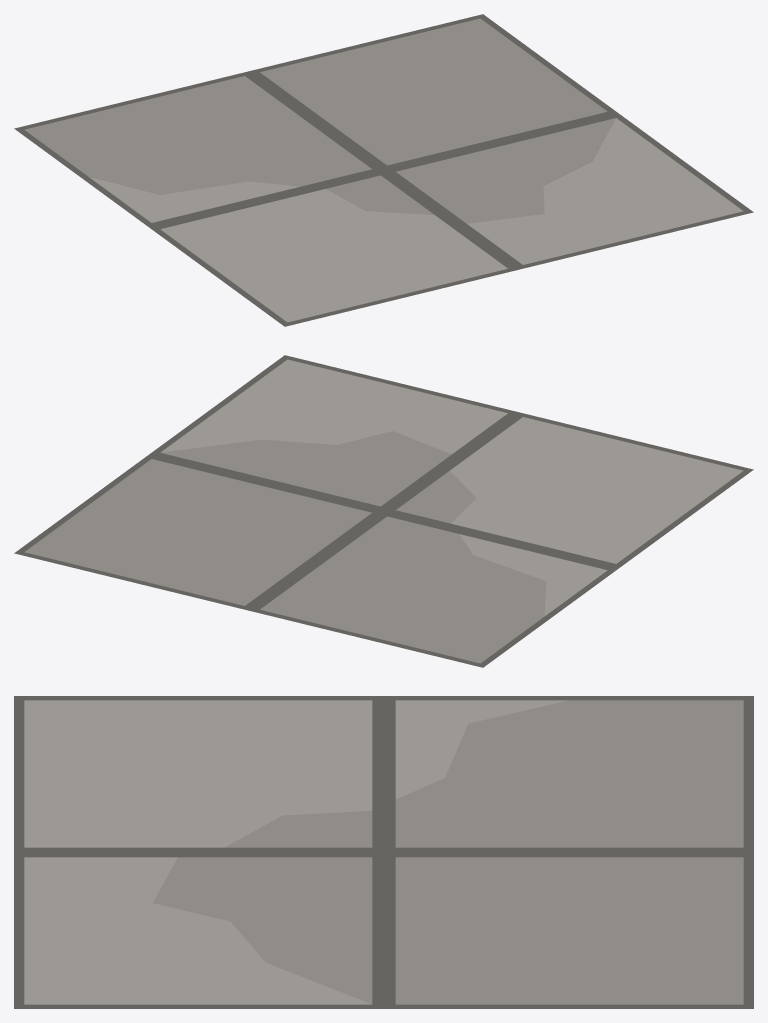
The model's file is AI_Env_Floor_07_Stained.fbx.
3 renders of one model, top to bottom at view 1: azimuth 30°, elevation 25°; view 2: azimuth 150°, elevation 25°; view 3: azimuth 270°, elevation 25°, orthographic. The views are drawn at different scales.
Visible parts, largest first — view 1: AI_Env_Floor_07_Stained; view 2: AI_Env_Floor_07_Stained; view 3: AI_Env_Floor_07_Stained.
Boxes of the visible parts, x1,y1,x2,y2 form: AI_Env_Floor_07_Stained: [14, 14, 753, 326]; AI_Env_Floor_07_Stained: [14, 355, 753, 667]; AI_Env_Floor_07_Stained: [14, 696, 753, 1008].
Bounding box in the file's own units: 5 × 0 × 5.
